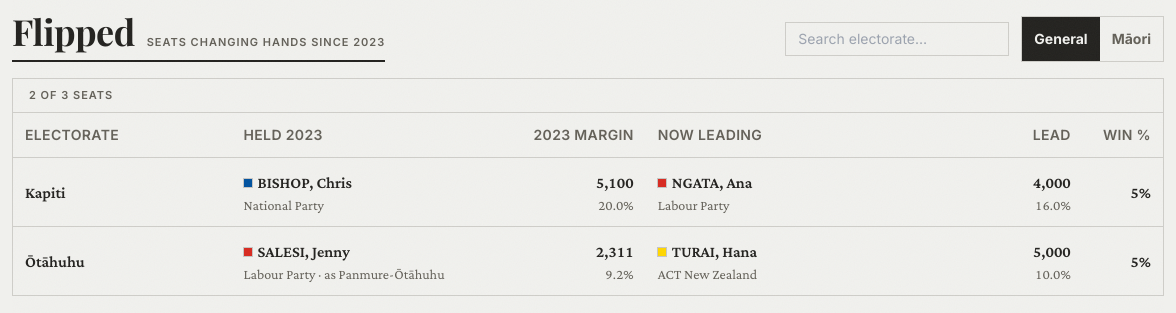
it: Flipped page › filters the list, macron-insensitively
Expected: the text "Ōtāhuhu" is shown, top-left (25, 252), bottom-right (85, 269)
Type "otah" into the field named "Search flipped seats".
click(897, 39); type("otah")  # box top-left (785, 22), bottom-right (1009, 56)
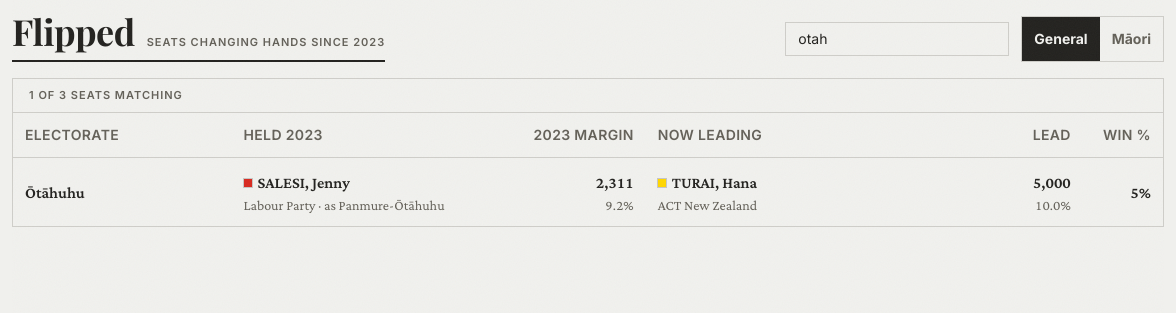
Expected: the text "Ōtāhuhu" is shown, top-left (25, 183), bottom-right (85, 200)
Now the button "Kapiti" is gone
Now the text "1 of 3 seats matching" is shown, box top-left (29, 87), bottom-right (183, 104)
